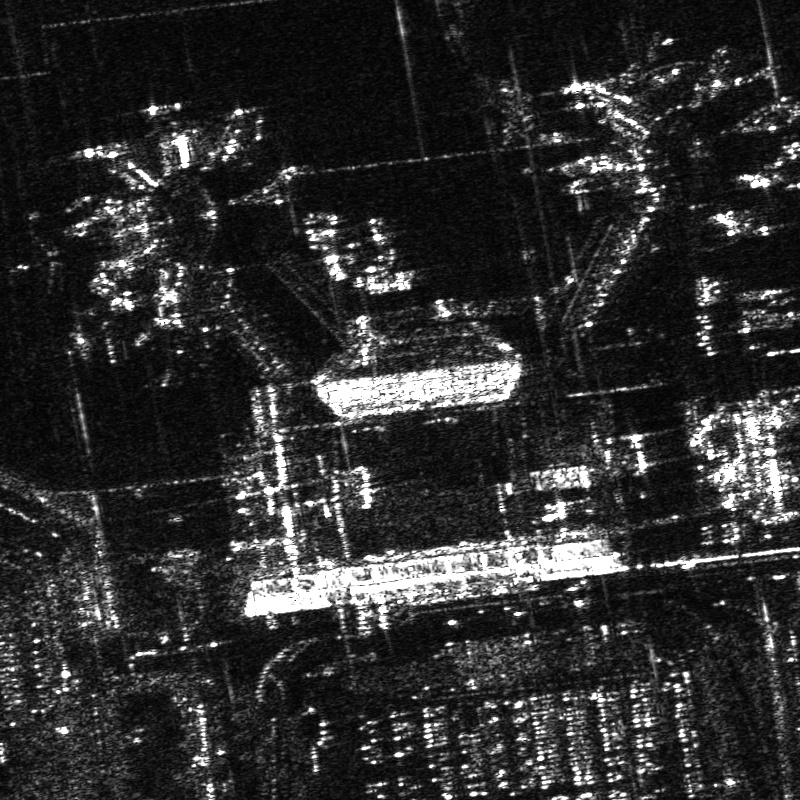A220: (4, 222, 74, 301)
